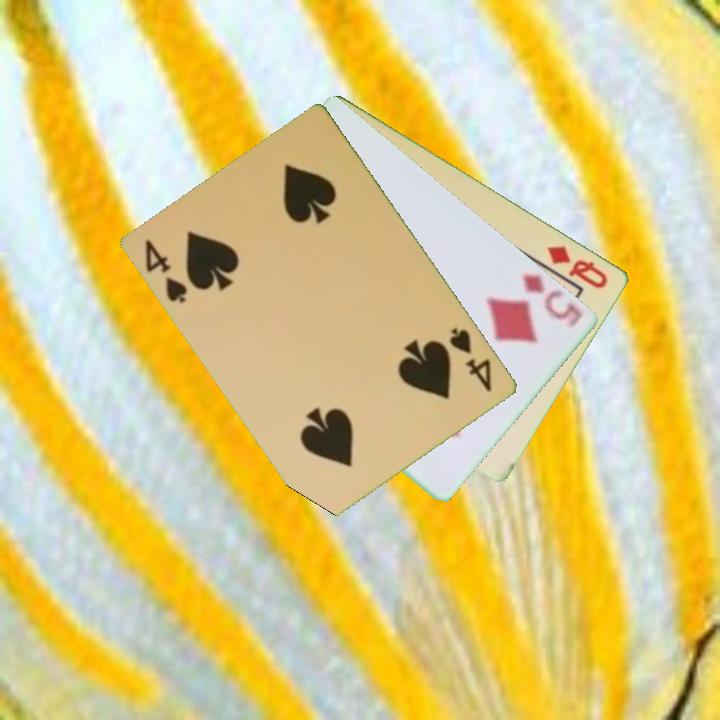4s: (446, 324, 496, 395), (142, 235, 191, 307)
5d: (518, 270, 586, 326)
Qd: (544, 242, 612, 292)
